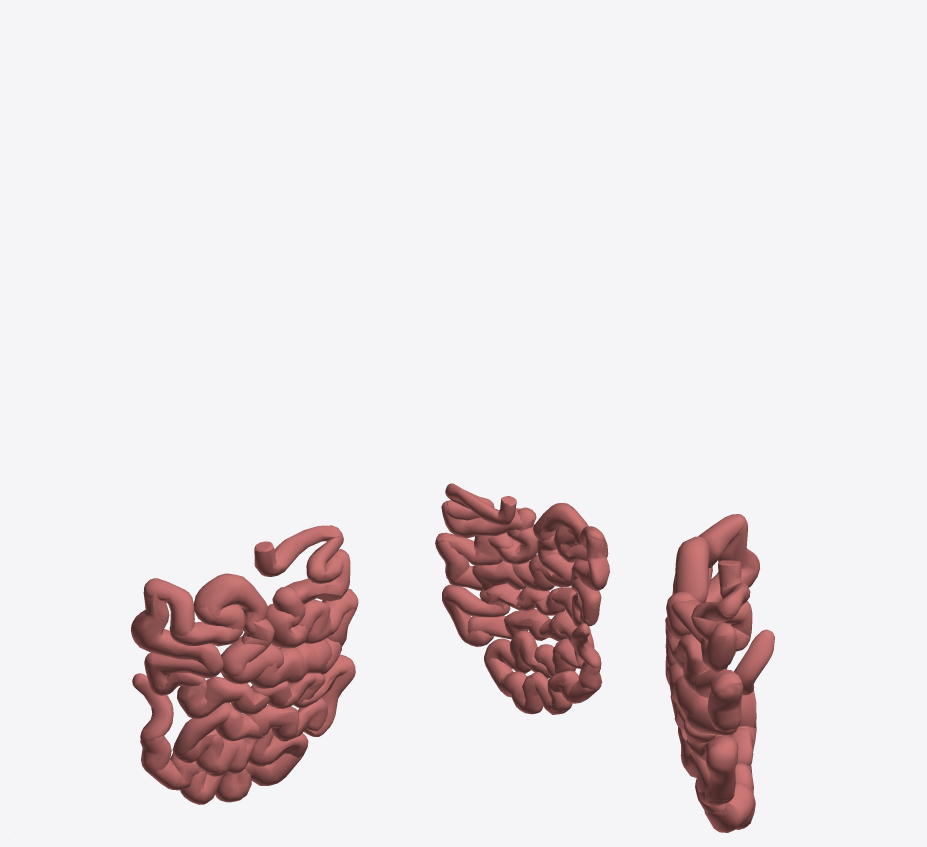
File: ingichka.glb
The picture shows the model from 3 angles, left to right: view 1: azimuth 30°, elevation 25°; view 2: azimuth 150°, elevation 25°; view 3: azimuth 270°, elevation 25°; orthographic projection. The views are drawn at different scales.
Parts seen in each view (by area): view 1: ingichka; view 2: ingichka; view 3: ingichka.
Part boxes in pixels (<box>): ingichka: <box>130,525,358,804</box>; ingichka: <box>435,483,609,714</box>; ingichka: <box>665,514,774,832</box>.
Size of the model in its own units: 0.2441 by 0.7272 by 0.191.
